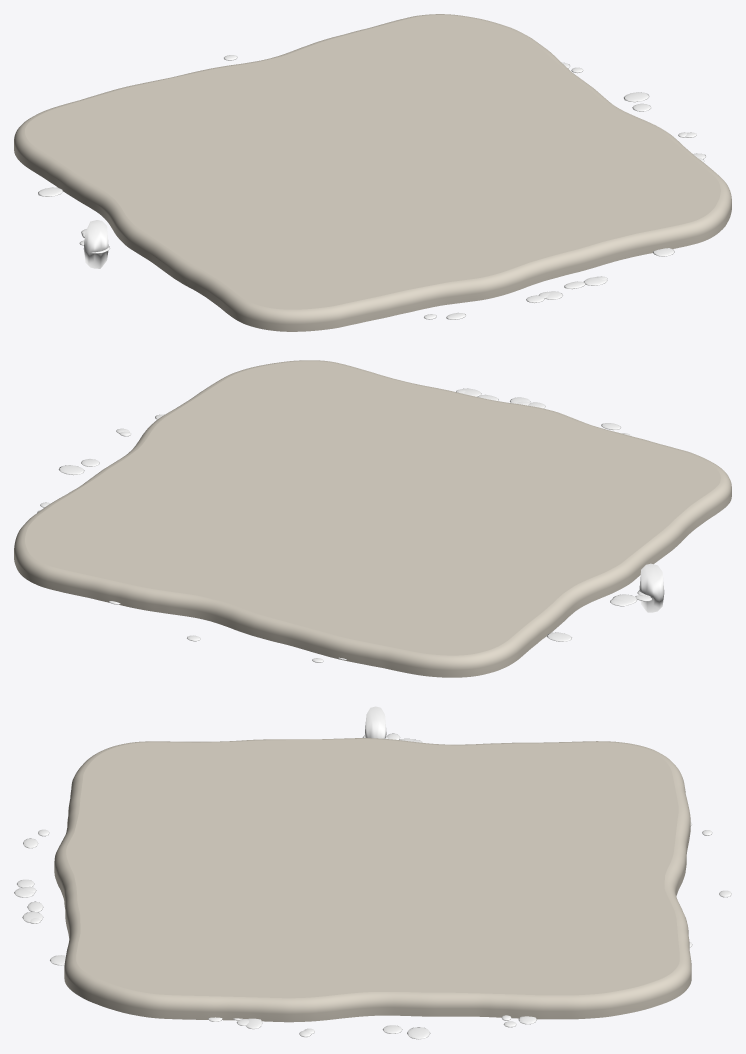
File: DoughSheet.glb
The picture shows the model from 3 angles, top to bottom: view 1: azimuth 30°, elevation 25°; view 2: azimuth 150°, elevation 25°; view 3: azimuth 270°, elevation 25°; orthographic projection. The views are drawn at different scales.
Parts seen in each view (by area): view 1: Dough, Flour; view 2: Dough, Flour; view 3: Dough, Flour.
Boxes of the visible parts, bbox=[...] form: Dough: bbox=[14, 14, 731, 331]; Flour: bbox=[38, 55, 705, 319]; Dough: bbox=[14, 360, 731, 677]; Flour: bbox=[37, 388, 664, 662]; Dough: bbox=[54, 738, 691, 1022]; Flour: bbox=[14, 706, 731, 1039].
Bounding box in the file's own units: 14.65 × 1.06 × 14.45.
